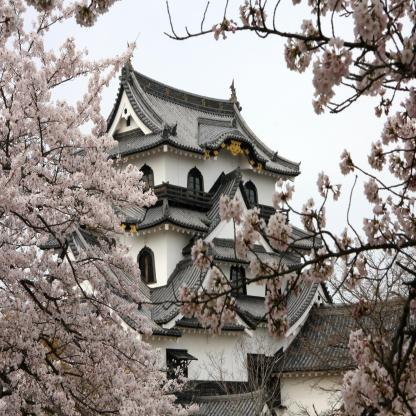Someiyoshino: (176, 0, 415, 413), (1, 1, 191, 415)
